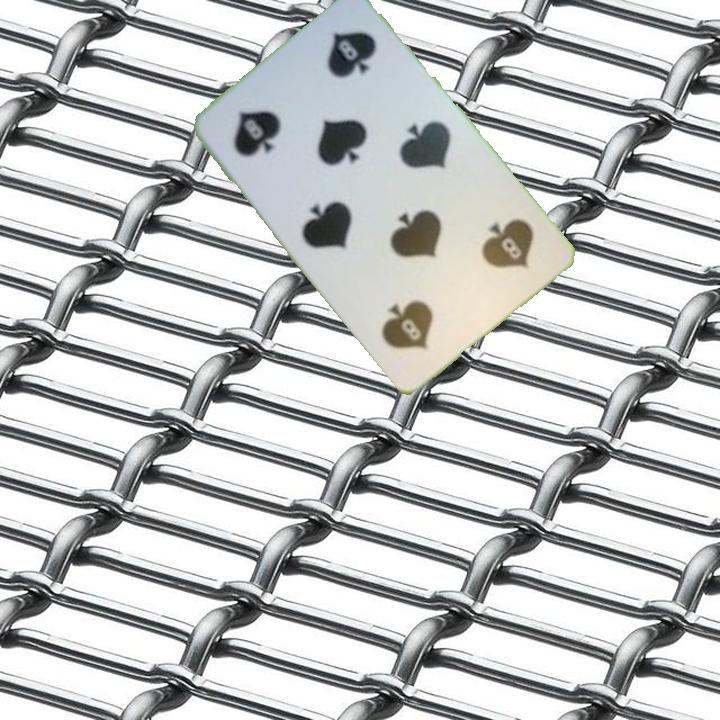s_8.png: (206, 65, 336, 193), (428, 189, 558, 316)
